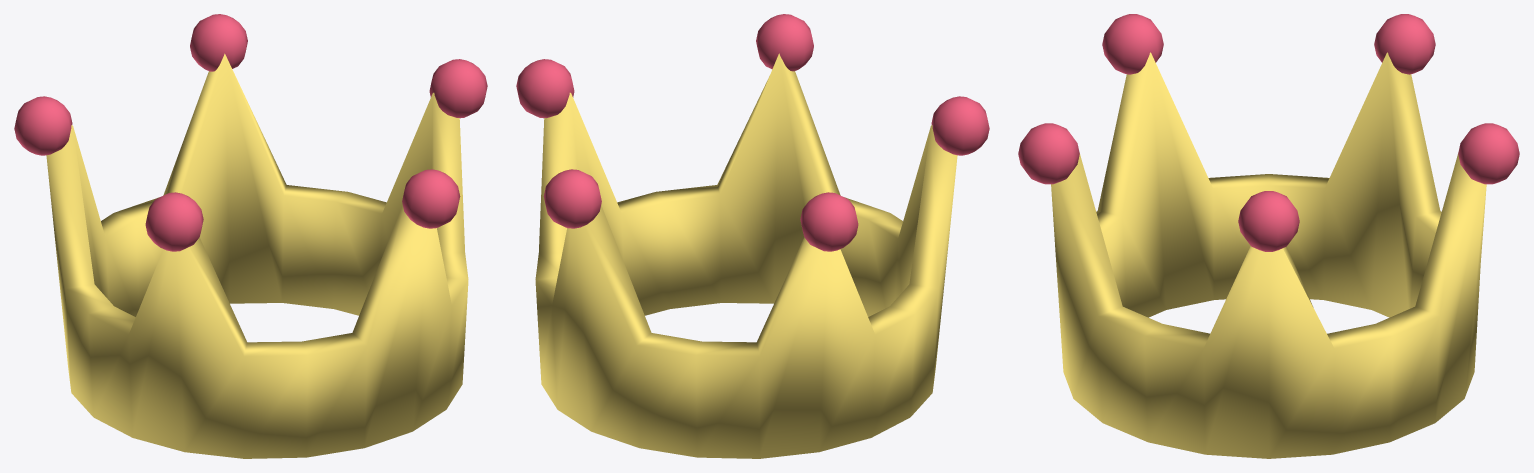
Rendered from costume_crown.glb.
3 renders of one model, left to right at view 1: azimuth 30°, elevation 25°; view 2: azimuth 150°, elevation 25°; view 3: azimuth 270°, elevation 25°, orthographic. The views are drawn at different scales.
Visible parts, largest first — view 1: costume_crown, costume_crown_gem_3, costume_crown_gem_4, costume_crown_gem_2, costume_crown_gem_0, costume_crown_gem_1; view 2: costume_crown, costume_crown_gem_2, costume_crown_gem_1, costume_crown_gem_3, costume_crown_gem_0, costume_crown_gem_4; view 3: costume_crown, costume_crown_gem_1, costume_crown_gem_4, costume_crown_gem_0, costume_crown_gem_3, costume_crown_gem_2.
Part boxes in pixels (left/top/right/bottom): costume_crown: left=46, top=53, right=468, bottom=458; costume_crown_gem_3: left=145, top=192, right=203, bottom=251; costume_crown_gem_4: left=402, top=169, right=460, bottom=228; costume_crown_gem_2: left=14, top=96, right=72, bottom=155; costume_crown_gem_0: left=429, top=59, right=487, bottom=118; costume_crown_gem_1: left=190, top=14, right=247, bottom=71; costume_crown: left=535, top=53, right=957, bottom=458; costume_crown_gem_2: left=800, top=192, right=858, bottom=251; costume_crown_gem_1: left=543, top=169, right=601, bottom=228; costume_crown_gem_3: left=931, top=96, right=989, bottom=155; costume_crown_gem_0: left=516, top=59, right=574, bottom=118; costume_crown_gem_4: left=756, top=14, right=813, bottom=71; costume_crown: left=1051, top=52, right=1486, bottom=458; costume_crown_gem_1: left=1458, top=123, right=1519, bottom=184; costume_crown_gem_4: left=1018, top=123, right=1079, bottom=184; costume_crown_gem_0: left=1238, top=191, right=1299, bottom=251; costume_crown_gem_3: left=1102, top=14, right=1163, bottom=74; costume_crown_gem_2: left=1374, top=14, right=1435, bottom=74.
Size of the model in its own units: 0.0278 by 0.0178 by 0.0293.
